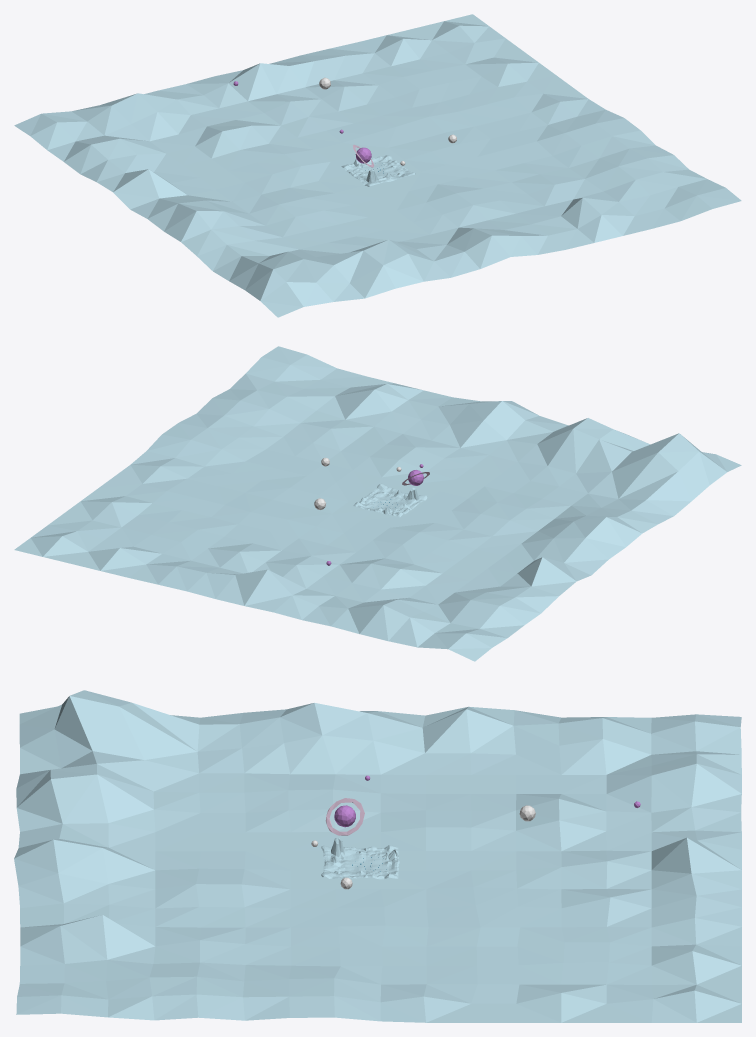
File: icy.dae
3 renders of one model, top to bottom at view 1: azimuth 30°, elevation 25°; view 2: azimuth 150°, elevation 25°; view 3: azimuth 270°, elevation 25°, orthographic. The views are drawn at different scales.
Visible parts, largest first — view 1: Plane, landscape01; view 2: Plane, landscape01; view 3: Plane, landscape01.
Part boxes in pixels (x1,y1,x2,y2): Plane: [14, 14, 741, 317]; landscape01: [341, 155, 415, 186]; Plane: [14, 346, 741, 661]; landscape01: [353, 483, 427, 517]; Plane: [14, 690, 741, 1022]; landscape01: [321, 838, 399, 879].
Bounding box in the file's own units: 284 × 282 × 29.42.
